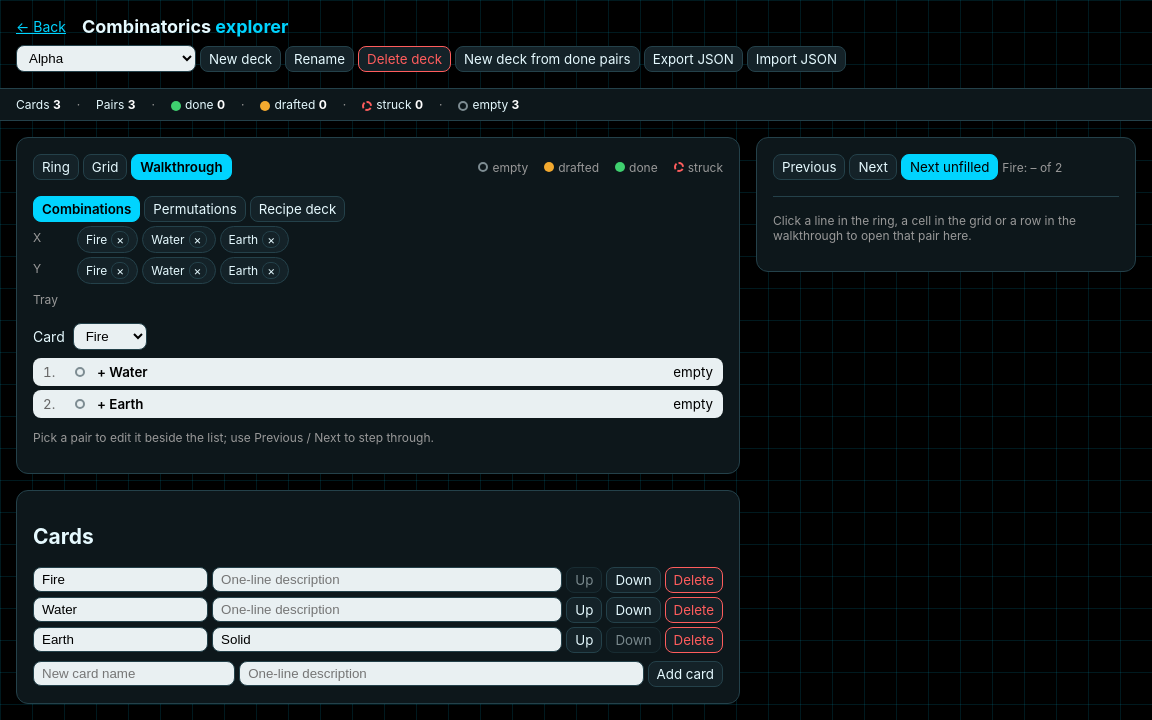
Test case: CombinationsPage walkthrough › keeps an open pair that belongs to the new walk card
Click the button "1. + Water empty". click: (122, 372)
box: [33,358,723,386]
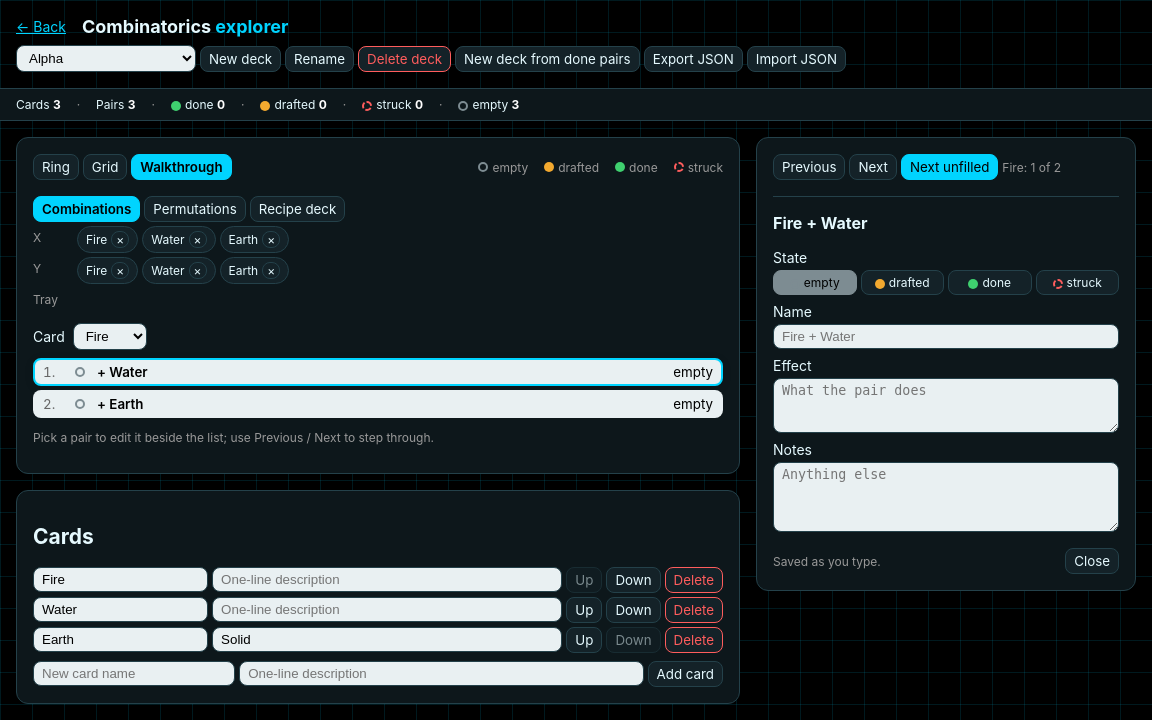
Select "Water" in the dropdown labelled "Card". click: (110, 336)
box: [73,323,147,350]
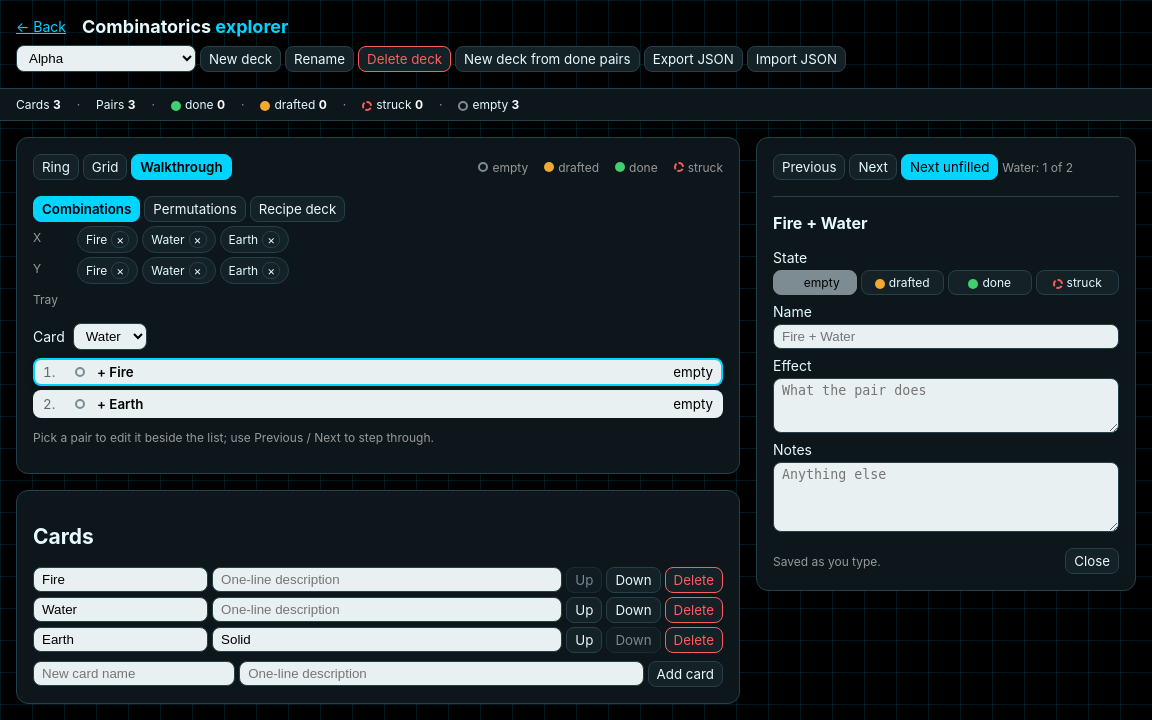
Expected: the element with class "side" does not show "Click a line in the ring", [756,137,1136,591]
Expected: the text "Water: 1 of 2" is shown, [1002,160,1073,174]
